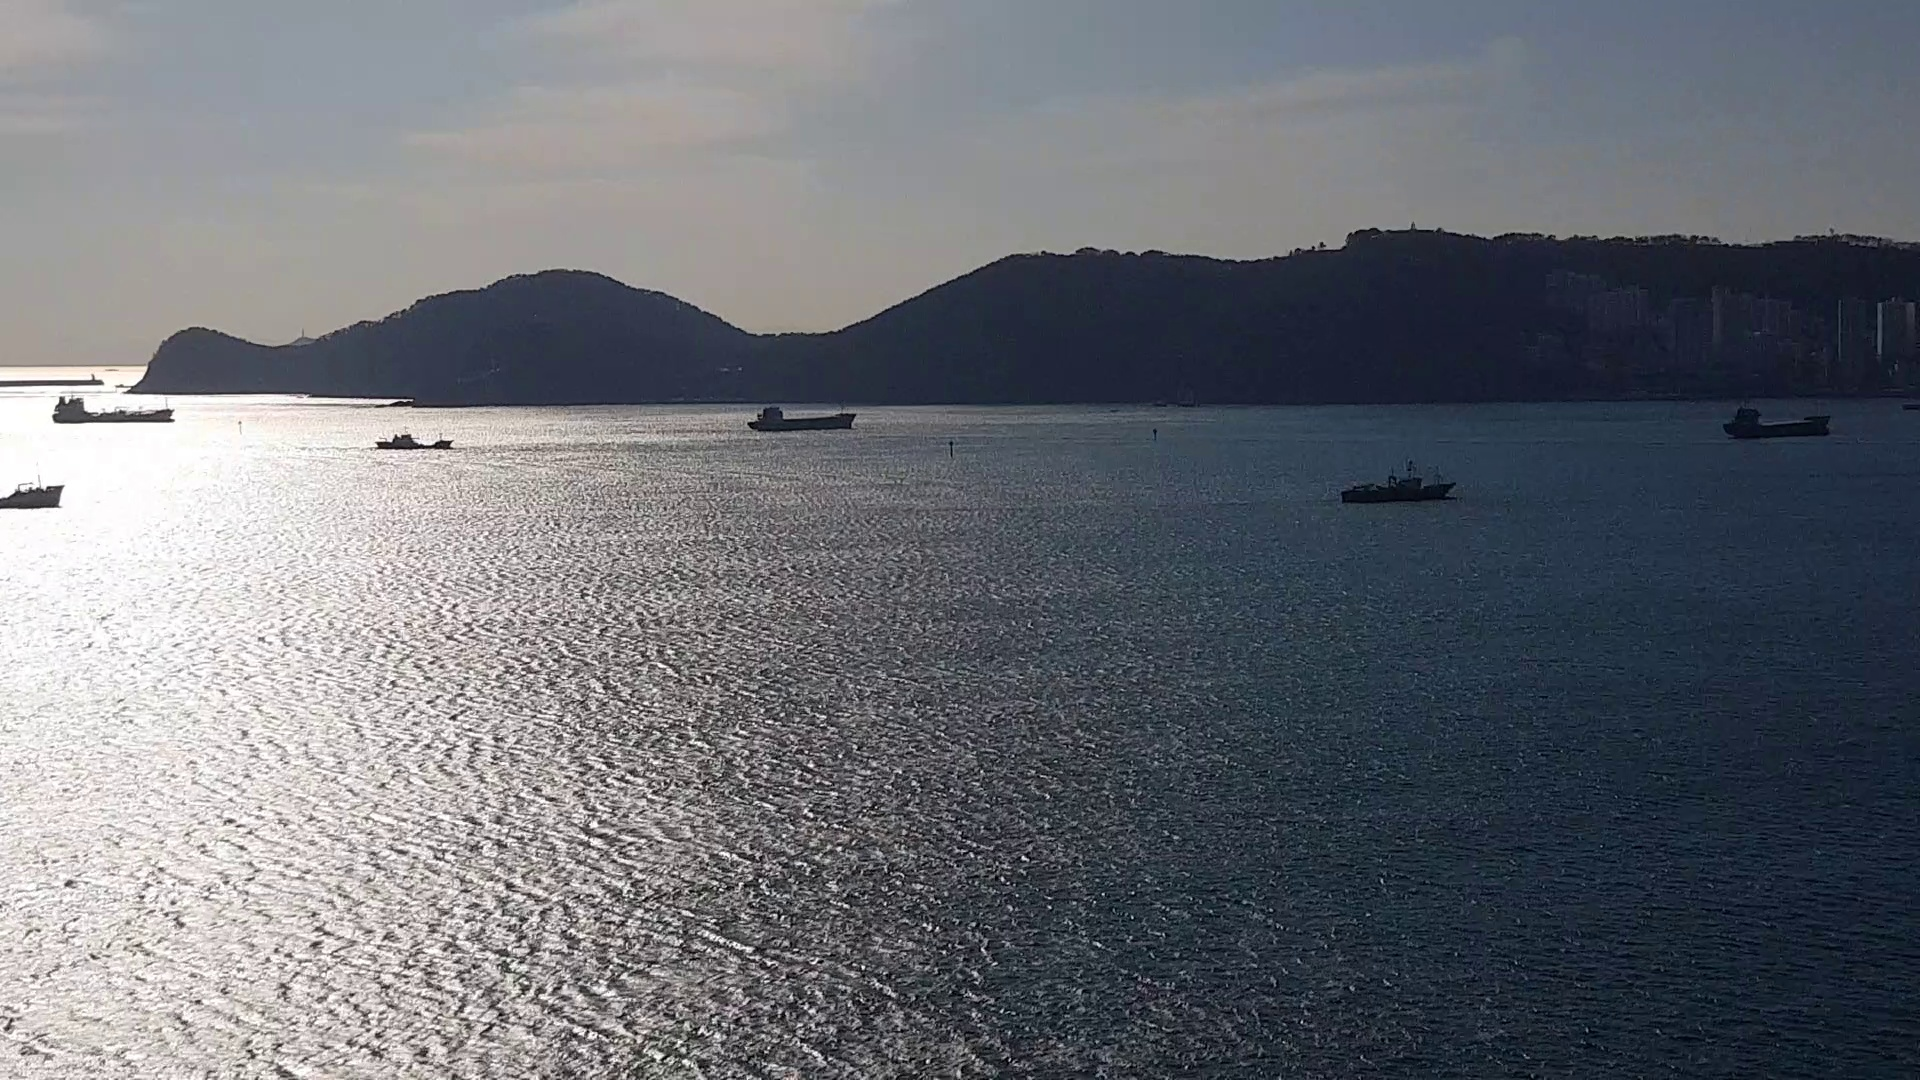Bulk_Carrier: (1338, 473, 1458, 504), (741, 411, 853, 435), (367, 438, 455, 455)
